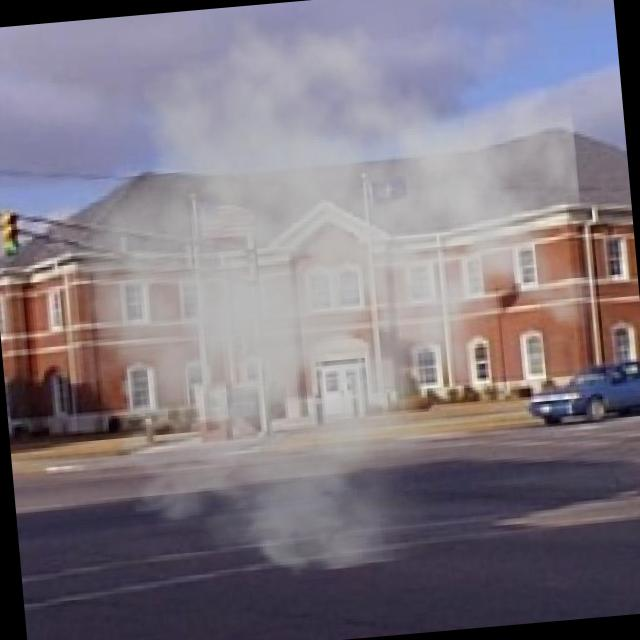Smoke: (8, 0, 610, 595)
